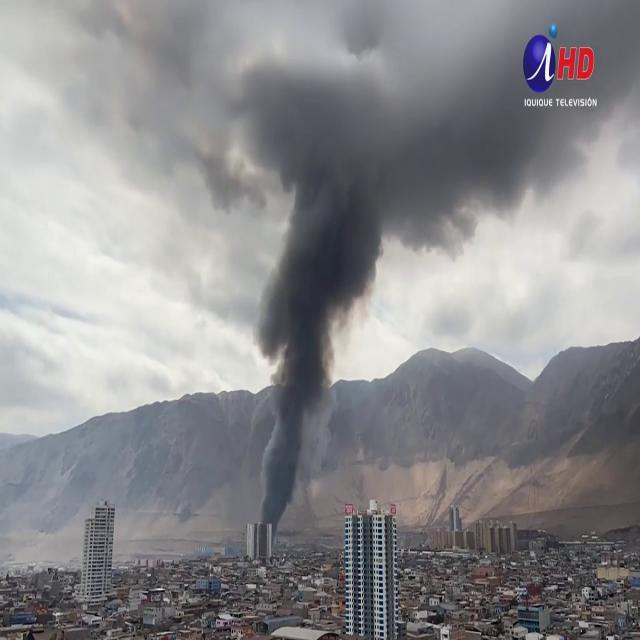Smoke: (113, 0, 640, 266), (253, 44, 393, 529)
